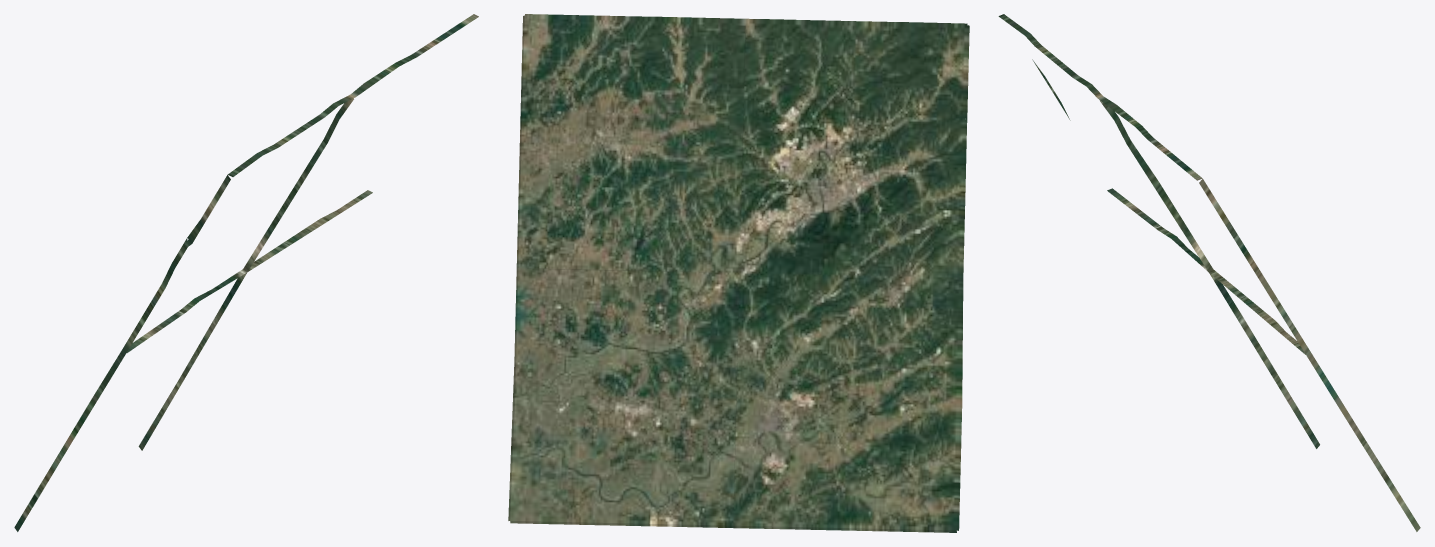
The picture shows the model from 3 angles, left to right: view 1: azimuth 30°, elevation 25°; view 2: azimuth 150°, elevation 25°; view 3: azimuth 270°, elevation 25°; orthographic projection. The views are drawn at different scales.
Bounding box in the file's own units: 79262 × 69241 × 66162.
Materials: 1 (1 with a texture image).
